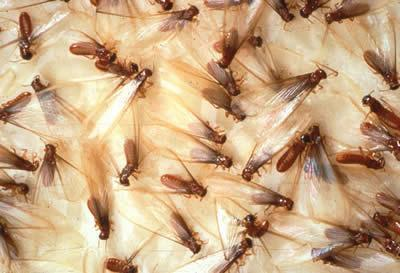flying termite: (225, 60, 329, 129), (69, 68, 162, 142), (296, 126, 351, 224), (22, 72, 93, 143), (209, 173, 297, 213), (2, 6, 61, 63), (31, 134, 75, 209), (107, 118, 143, 187), (152, 162, 208, 199), (81, 184, 115, 244)
